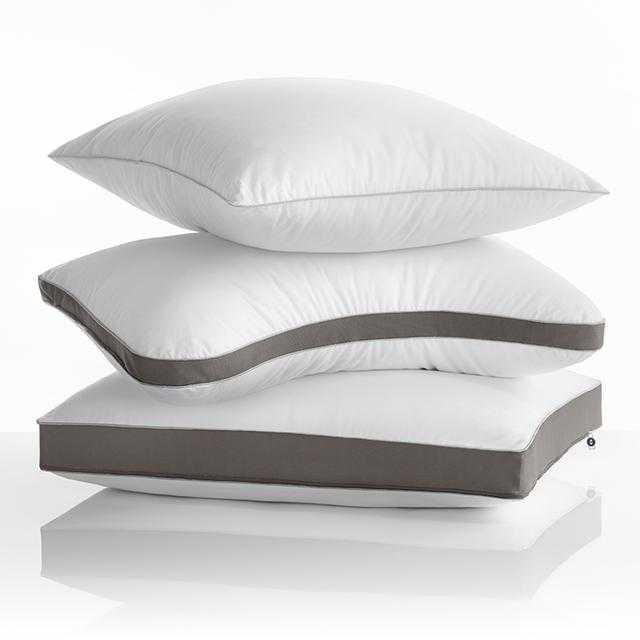pillow: (46, 74, 610, 254), (38, 230, 606, 404)
